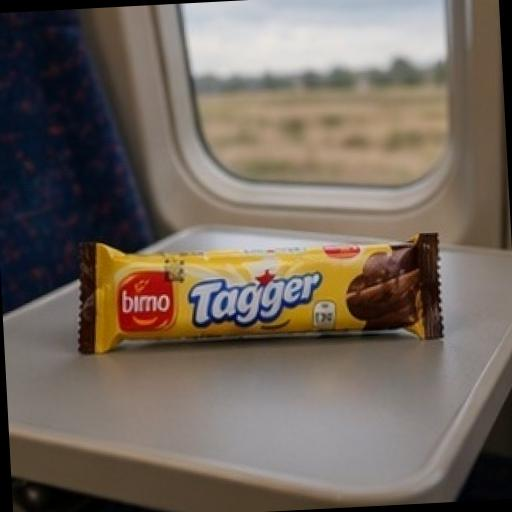tagger: (44, 163, 502, 412)
